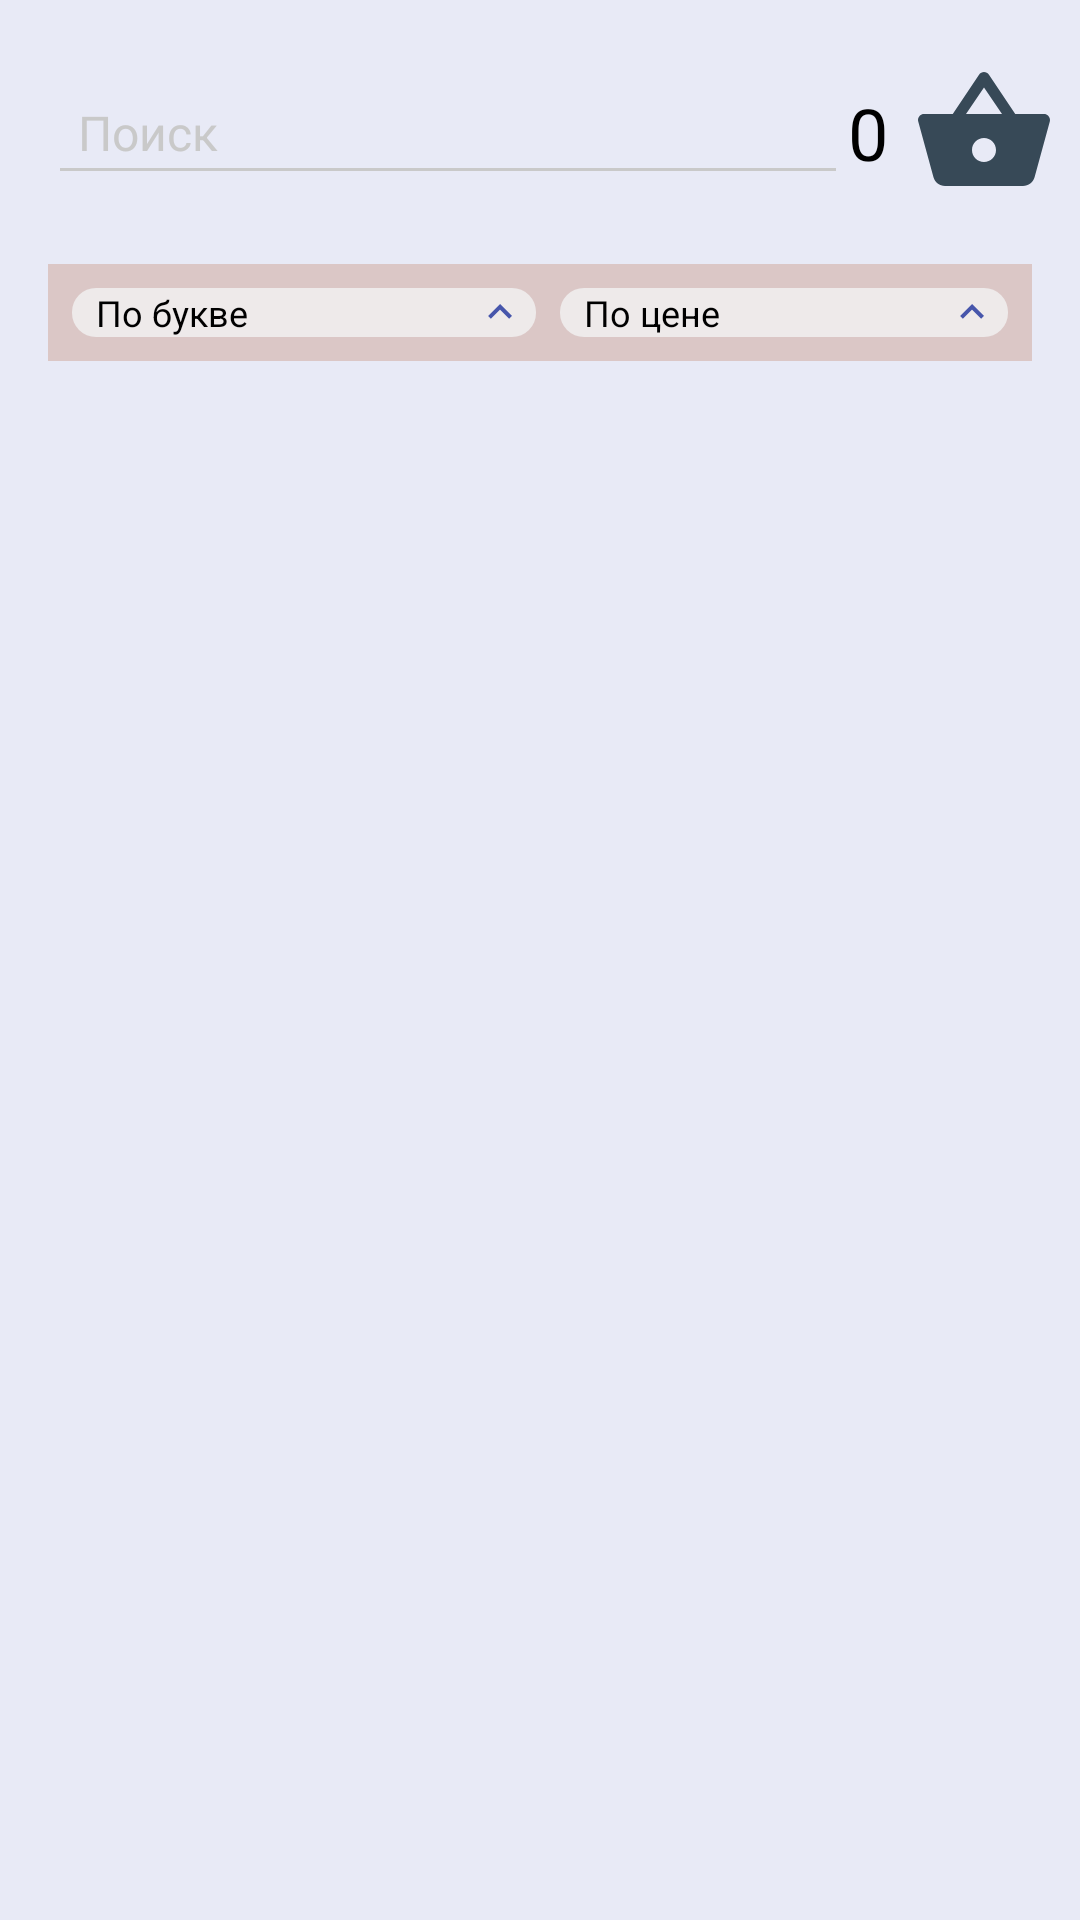

Icons on this 1080*1920 Android screen, each with its box as {"x1": x1, "y1": y1, "x2": x2, "y2": y2}:
basket: {"x1": 918, "y1": 72, "x2": 1050, "y2": 186}
